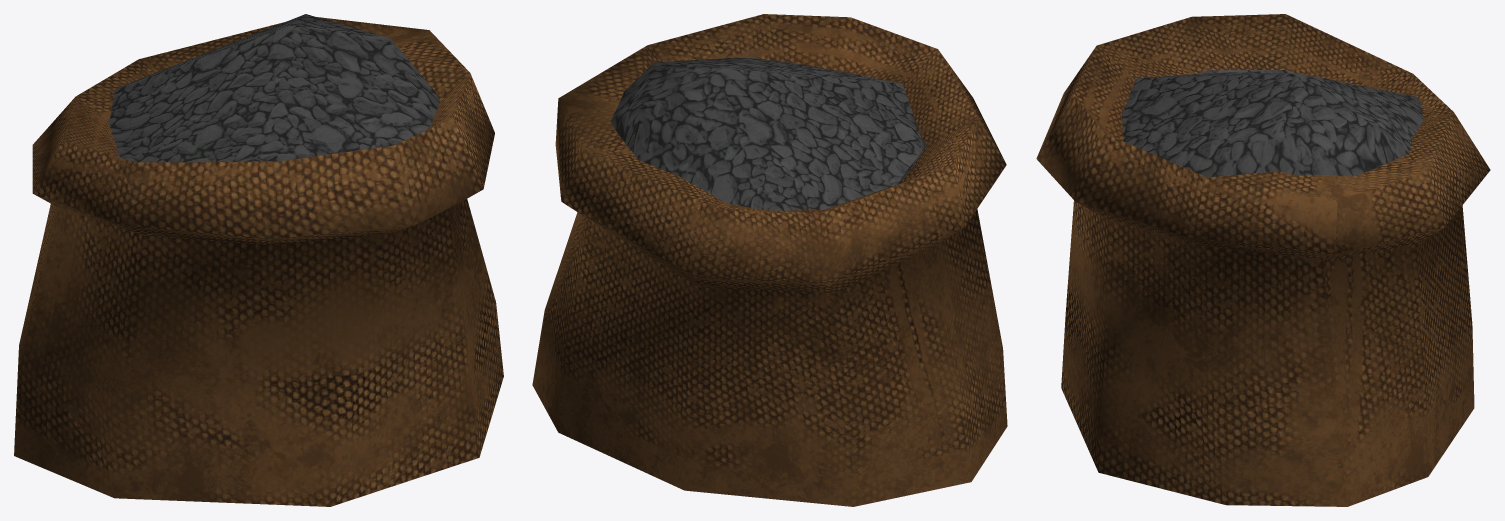
File: порох.fbx
3 renders of one model, left to right at view 1: azimuth 30°, elevation 25°; view 2: azimuth 150°, elevation 25°; view 3: azimuth 270°, elevation 25°, orthographic. The views are drawn at different scales.
Visible parts, largest first — view 1: gunpowder; view 2: gunpowder; view 3: gunpowder.
Part boxes in pixels (box(x1,y1,x2,y2)): gunpowder: box(14, 14, 503, 506); gunpowder: box(532, 14, 1007, 506); gunpowder: box(1036, 14, 1490, 506).
Size of the model in its own units: 1504 by 1197 by 1373.
Materials: 1 (1 with a texture image).
